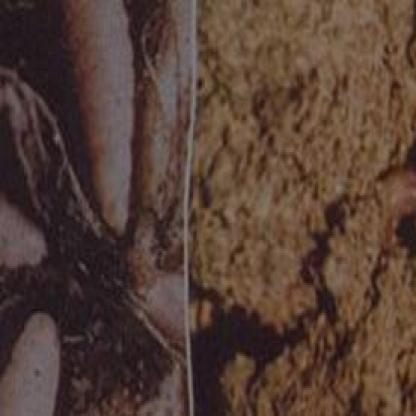whorl-maggot: (64, 0, 135, 240), (0, 313, 63, 415), (2, 191, 48, 265)
